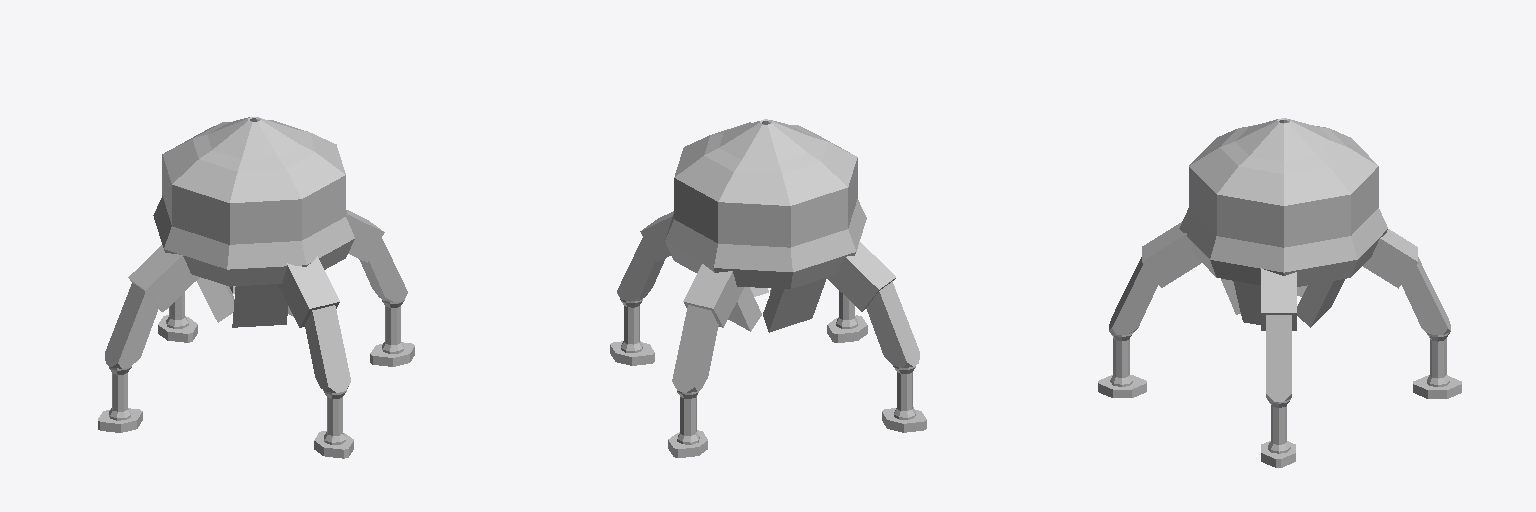
The model's file is general_lander.obj.
The picture shows the model from 3 angles: view 1: azimuth 30°, elevation 25°; view 2: azimuth 150°, elevation 25°; view 3: azimuth 270°, elevation 25°; orthographic projection.
Visible parts, largest first — view 1: Body, FourLeg, OneLeg, ThreeLeg, TwoLeg; view 2: Body, OneLeg, TwoLeg, ThreeLeg, FourLeg; view 3: Body, FourLeg, TwoLeg, ThreeLeg.
Part boxes in pixels (bbox=[...]): Body: bbox=[153, 117, 354, 327]; FourLeg: bbox=[278, 256, 353, 458]; OneLeg: bbox=[98, 245, 199, 432]; ThreeLeg: bbox=[347, 210, 414, 366]; TwoLeg: bbox=[158, 292, 197, 342]; Body: bbox=[665, 119, 866, 332]; OneLeg: bbox=[827, 241, 926, 432]; TwoLeg: bbox=[668, 264, 743, 457]; ThreeLeg: bbox=[610, 211, 673, 365]; FourLeg: bbox=[827, 291, 867, 342]; Body: bbox=[1179, 118, 1387, 327]; FourLeg: bbox=[1098, 222, 1201, 397]; TwoLeg: bbox=[1363, 229, 1461, 398]; ThreeLeg: bbox=[1261, 268, 1296, 467].
Size of the model in its own units: 32.97 by 27.11 by 33.06.